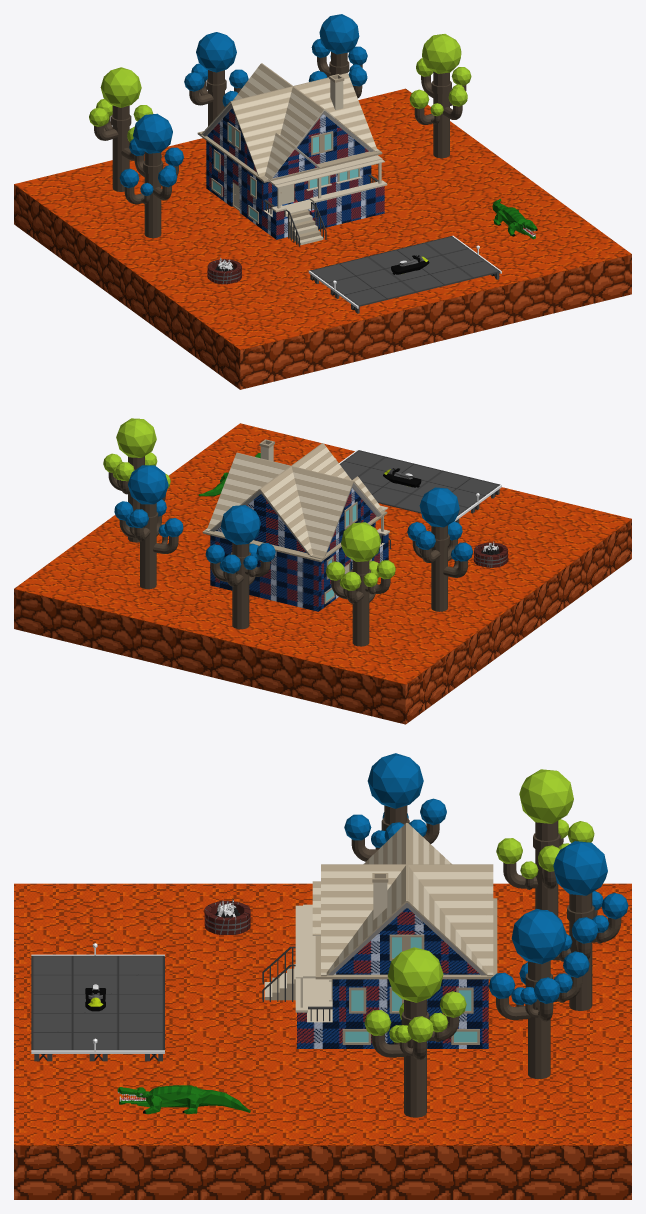
The picture shows the model from 3 angles, top to bottom: view 1: azimuth 30°, elevation 25°; view 2: azimuth 150°, elevation 25°; view 3: azimuth 270°, elevation 25°; orthographic projection. The views are drawn at different scales.
Parts seen in each view (by area): view 1: Cube.001, Cube.171, ANIMAL_COCODRILO, OBJRANDOM_CAMPFIRE; view 2: Cube.001, Cube.171, OBJRANDOM_CAMPFIRE, VEHICLES_WATERBIKE; view 3: Cube.001, Cube.171, ANIMAL_COCODRILO, OBJRANDOM_CAMPFIRE.
Boxes of the visible parts, bbox=[...] form: Cube.001: bbox=[14, 14, 631, 389]; Cube.171: bbox=[197, 63, 387, 246]; ANIMAL_COCODRILO: bbox=[492, 198, 537, 239]; OBJRANDOM_CAMPFIRE: bbox=[207, 257, 241, 284]; Cube.001: bbox=[14, 418, 631, 724]; Cube.171: bbox=[202, 439, 390, 611]; OBJRANDOM_CAMPFIRE: bbox=[473, 541, 508, 567]; VEHICLES_WATERBIKE: bbox=[383, 468, 421, 487]; Cube.001: bbox=[14, 753, 631, 1199]; Cube.171: bbox=[262, 823, 497, 1048]; ANIMAL_COCODRILO: bbox=[117, 1085, 250, 1114]; OBJRANDOM_CAMPFIRE: bbox=[204, 896, 250, 934].
Size of the model in its own units: 4000 by 1672 by 4000.
Materials: 28 (5 with a texture image).
